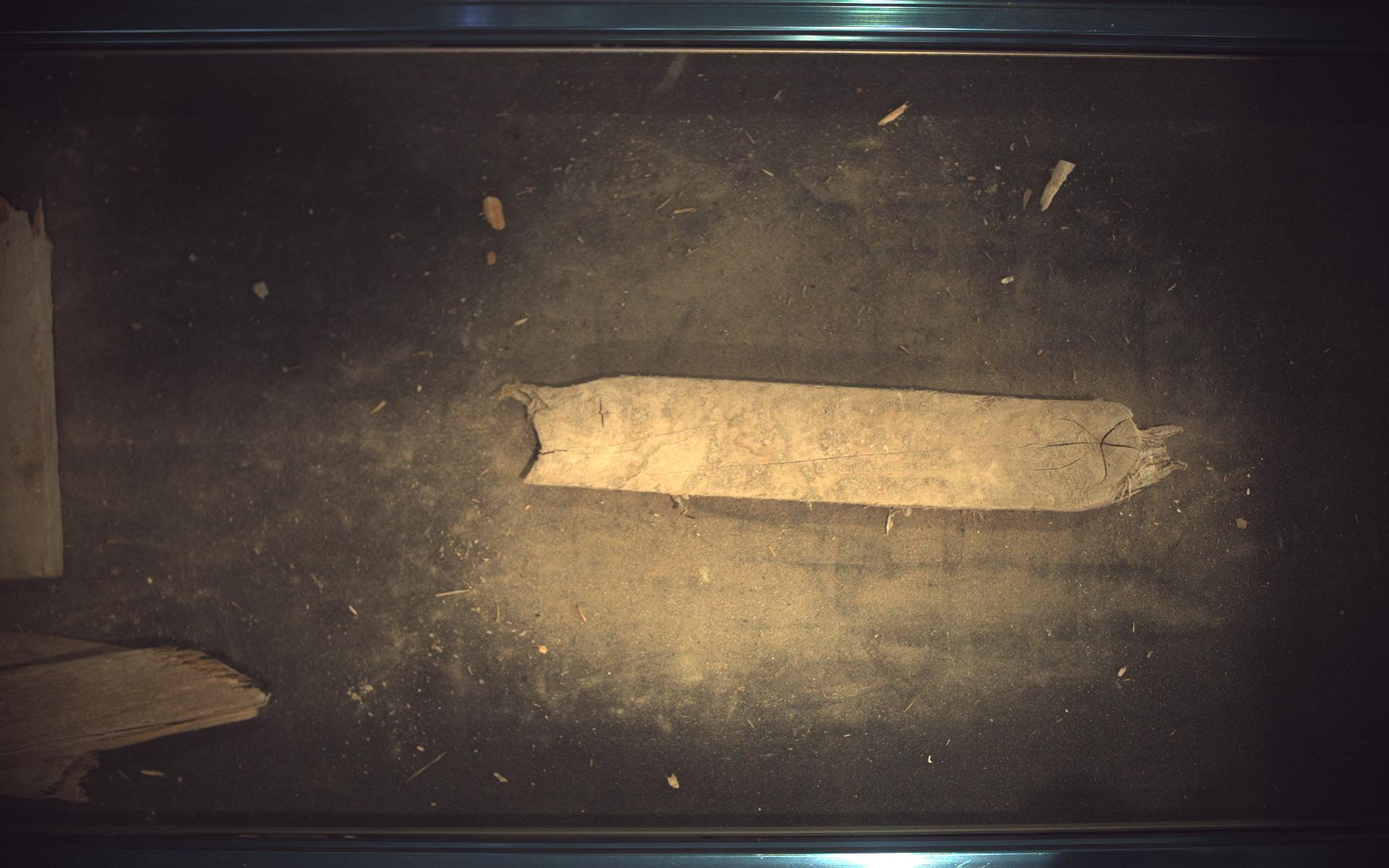wood: (499, 375, 1186, 512)
